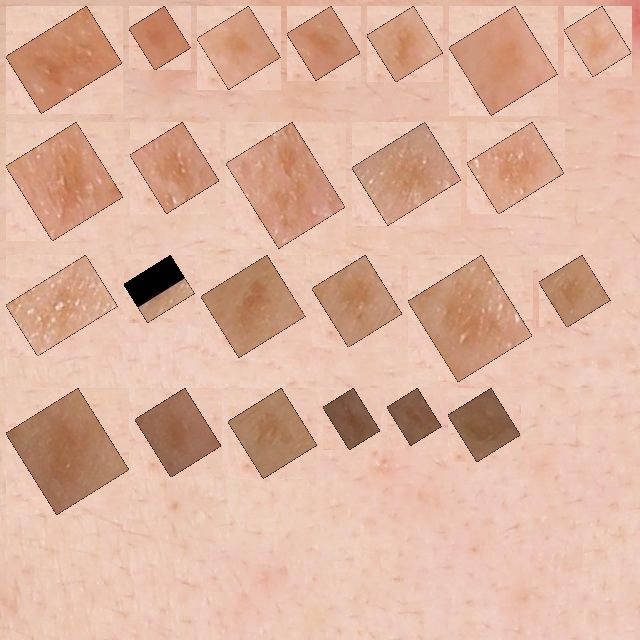melasma: (419, 266, 521, 371), (17, 399, 118, 503), (237, 133, 334, 237), (17, 133, 112, 230), (17, 17, 111, 102), (460, 17, 547, 104), (363, 133, 450, 214), (17, 266, 106, 345), (212, 266, 294, 346), (478, 133, 553, 203), (323, 266, 391, 336), (141, 133, 208, 202), (239, 399, 306, 467), (146, 399, 210, 466), (208, 17, 270, 78), (378, 17, 432, 71), (298, 17, 349, 69), (459, 399, 509, 451), (550, 266, 599, 316), (575, 17, 620, 65), (135, 266, 183, 311), (140, 17, 180, 59), (334, 399, 369, 438), (398, 399, 430, 434)
